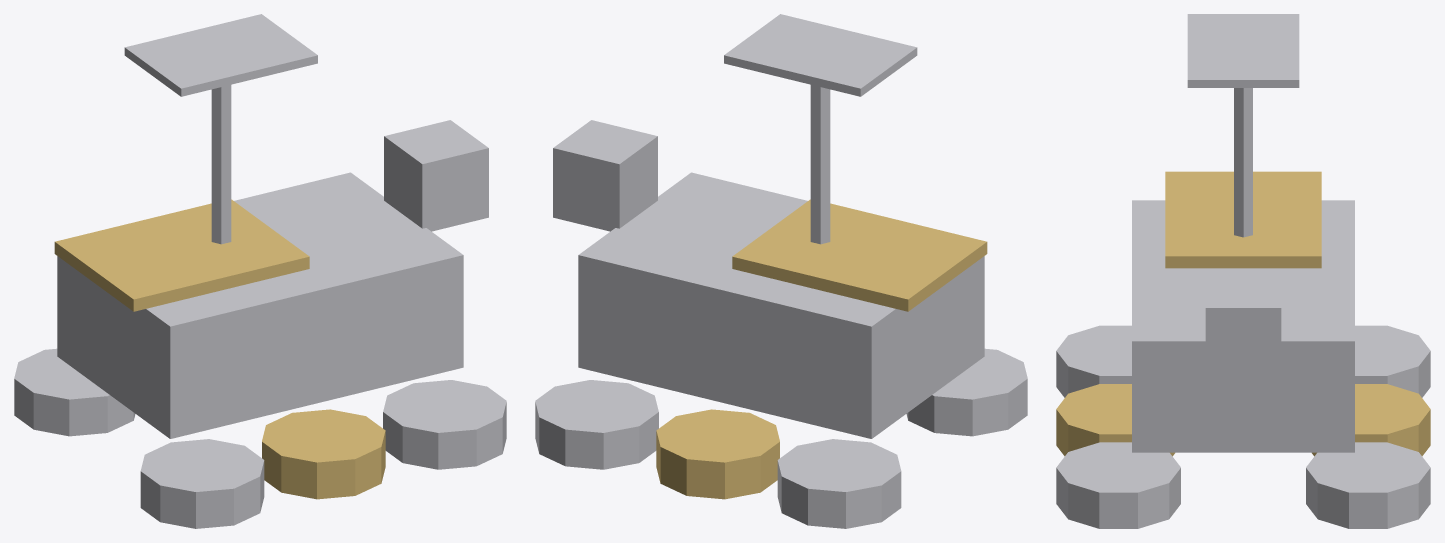
The model's file is mars-rover.gltf.
The picture shows the model from 3 angles, left to right: view 1: azimuth 30°, elevation 25°; view 2: azimuth 150°, elevation 25°; view 3: azimuth 270°, elevation 25°; orthographic projection.
Parts seen in each view (by area): view 1: mars-rover, gold; view 2: mars-rover, gold; view 3: mars-rover, gold.
Part boxes in pixels (<box>): mars-rover: <box>14,14,506,528</box>; gold: <box>54,199,385,499</box>; mars-rover: <box>535,14,1027,528</box>; gold: <box>656,199,987,499</box>; mars-rover: <box>1056,14,1430,528</box>; gold: <box>1056,171,1430,456</box>.
Bounding box in the file's own units: 1.96 × 1.88 × 1.68.
